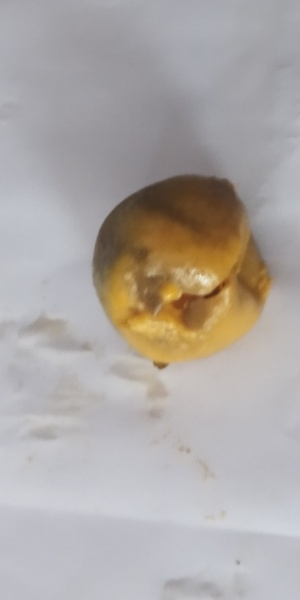BAD: (87, 171, 274, 367)
